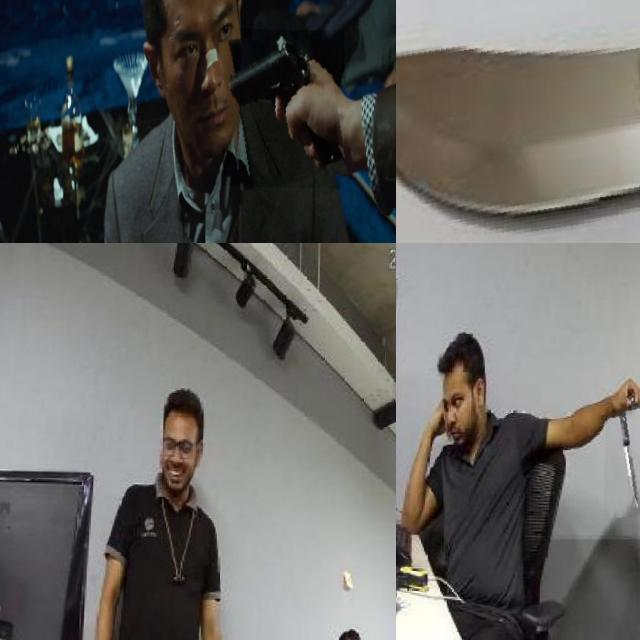-: (396, 0, 640, 243), (605, 408, 640, 515)
gun-knife-thesis - v11 Yolov5 augmented: (223, 28, 346, 188)
